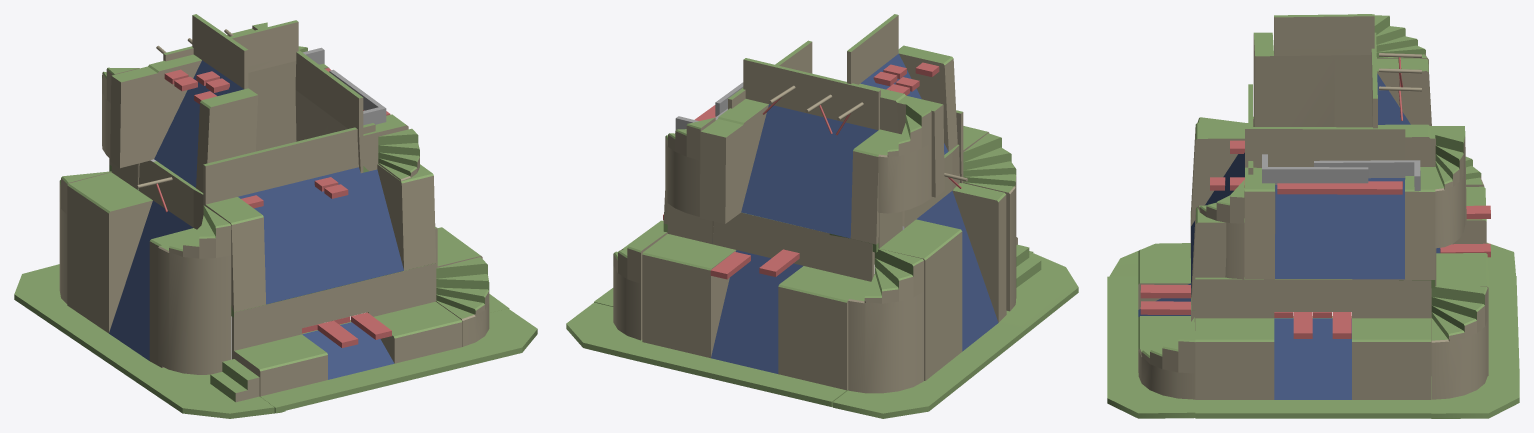
The model's file is mountain2.fbx.
3 renders of one model, left to right at view 1: azimuth 30°, elevation 25°; view 2: azimuth 150°, elevation 25°; view 3: azimuth 270°, elevation 25°, orthographic.
Visible parts, largest first — view 1: pCube40; view 2: pCube40; view 3: pCube40.
Boxes of the visible parts, <box> form: pCube40: <box>14,14,537,418</box>; pCube40: <box>566,14,1078,418</box>; pCube40: <box>1107,14,1519,418</box>.
Size of the model in its own units: 69.49 by 54.51 by 69.01.
